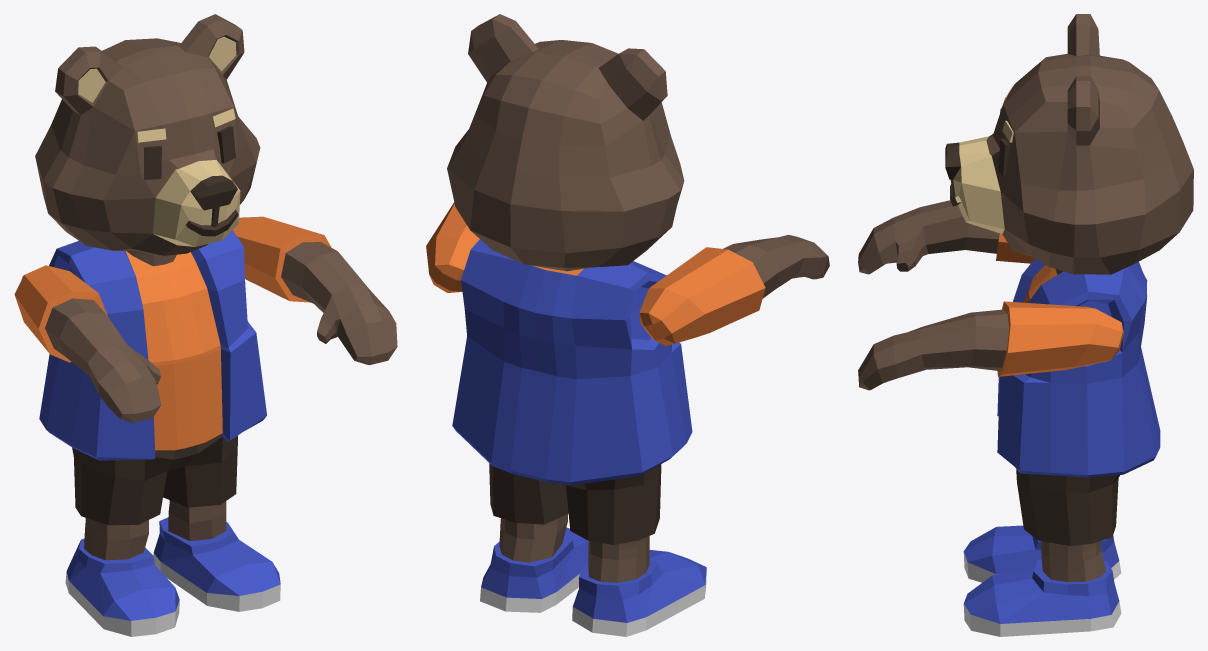
File: main_character.fbx
3 renders of one model, left to right at view 1: azimuth 30°, elevation 25°; view 2: azimuth 150°, elevation 25°; view 3: azimuth 270°, elevation 25°, orthographic. The views are drawn at different scales.
Parts seen in each view (by area): view 1: gg_body.001, GG_HEAD.001, gghand_L.001, gghand_R.001, GG_EYES.001, GG_BROWS.001; view 2: gg_body.001, GG_HEAD.001, gghand_R.001, gghand_L.001; view 3: gg_body.001, GG_HEAD.001, gghand_L.001, gghand_R.001.
Boxes of the visible parts, <box> form: gg_body.001: <box>39,230,280,636</box>; GG_HEAD.001: <box>35,14,260,266</box>; gghand_L.001: <box>233,216,397,365</box>; gghand_R.001: <box>14,265,161,422</box>; GG_EYES.001: <box>144,126,235,179</box>; GG_BROWS.001: <box>137,108,235,142</box>; gg_body.001: <box>452,239,706,636</box>; GG_HEAD.001: <box>447,14,684,271</box>; gghand_R.001: <box>639,234,829,346</box>; gghand_L.001: <box>426,202,479,292</box>; gg_body.001: <box>963,258,1160,636</box>; GG_HEAD.001: <box>945,14,1193,274</box>; gghand_L.001: <box>858,301,1123,390</box>; gghand_R.001: <box>858,200,1034,274</box>.
Size of the model in its own units: 105 by 184 by 102.
